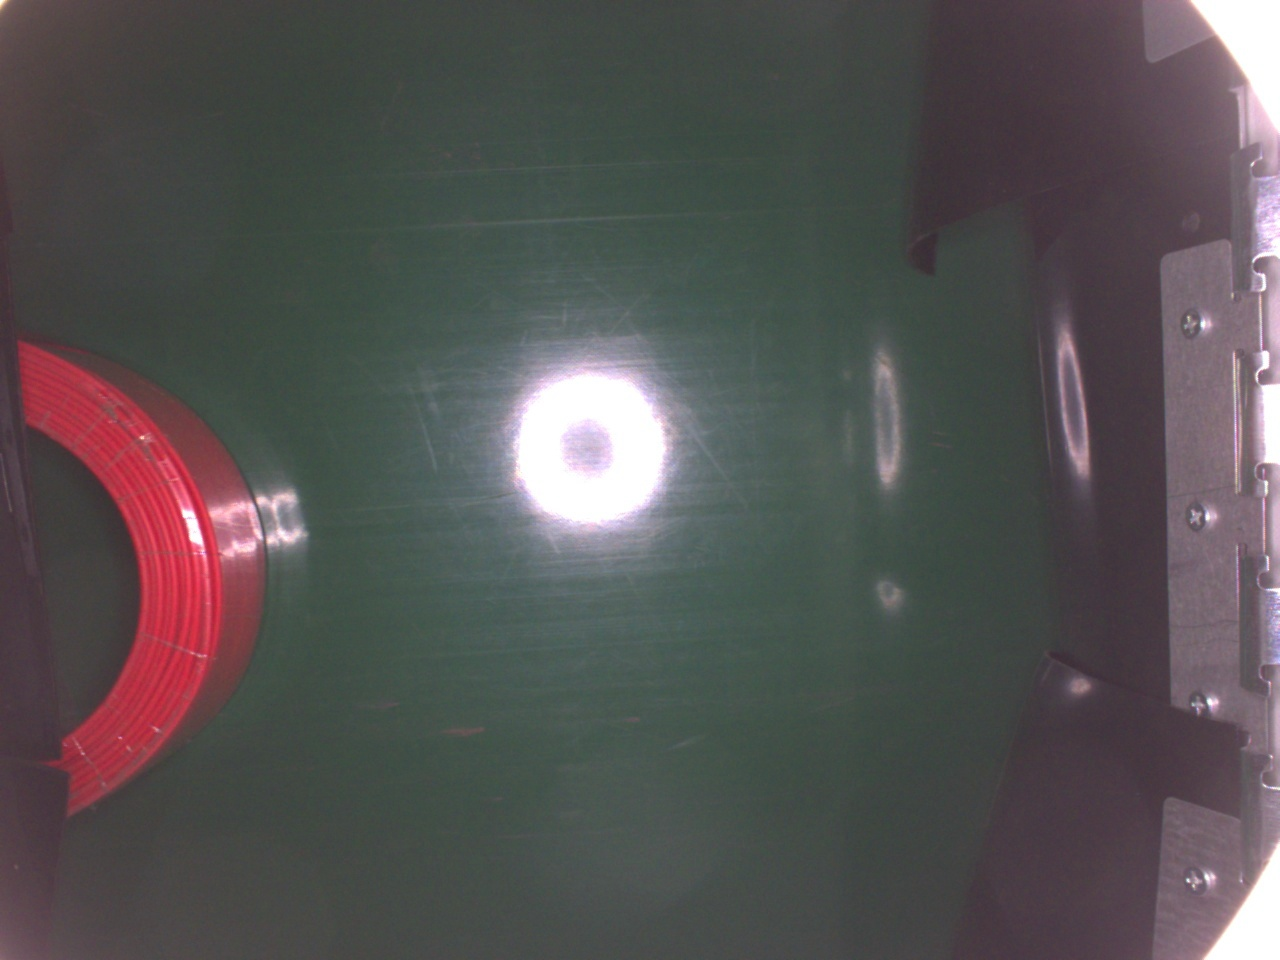red: (16, 333, 270, 818)
